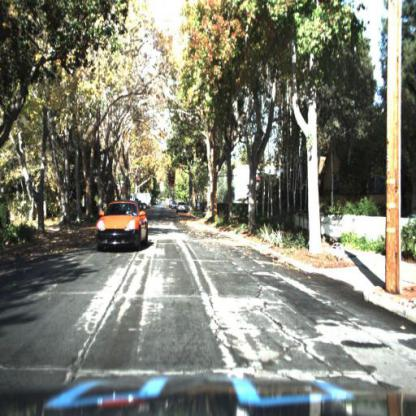car: (92, 199, 152, 260), (177, 200, 190, 219)
